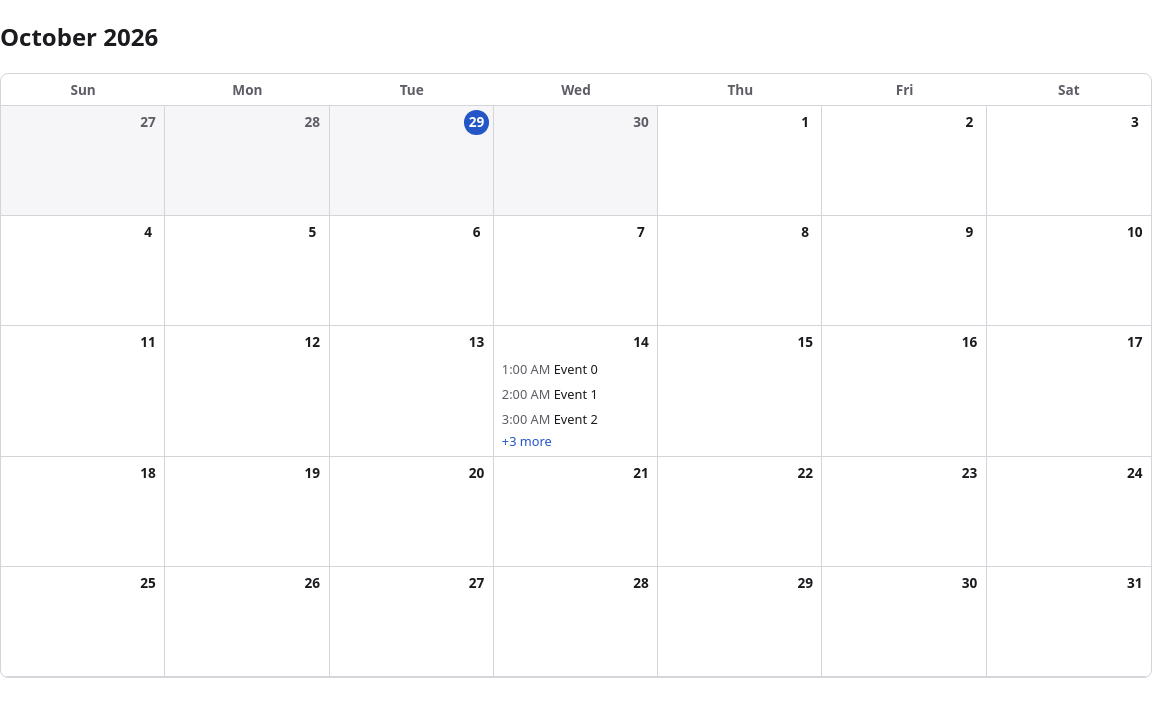
Test case: MonthView › shows an "N more" button that lists every event of a crowded day
Expected: the number of buttons "1:00 AM Event 0" is 3, [498,360,653,380]; [498,385,653,405]; [498,410,653,430]
Click the button with aria-label "3 more events on Wednesday, October 14, 2026". click: (575,442)
box: [498,432,653,452]
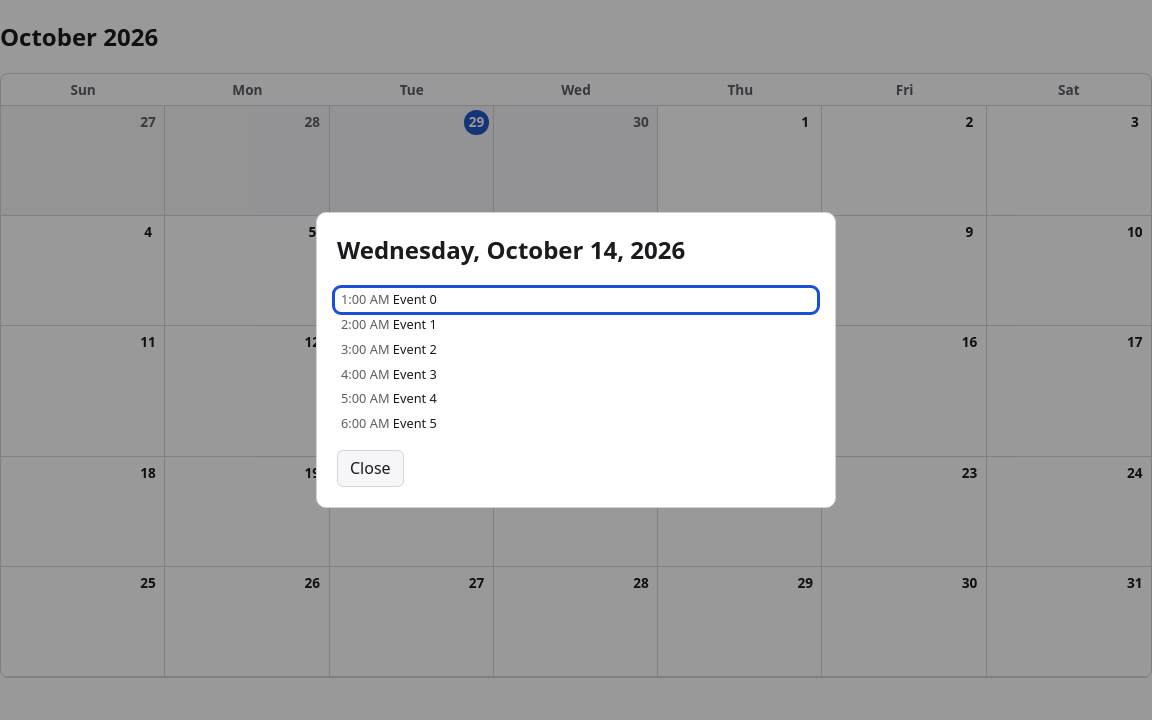
Now the number of buttons "1:00 AM Event 0" is 6, box [337,290,815,310]; [337,315,815,335]; [337,340,815,360]; [337,364,815,384]; [337,390,815,409]; [337,414,815,434]
